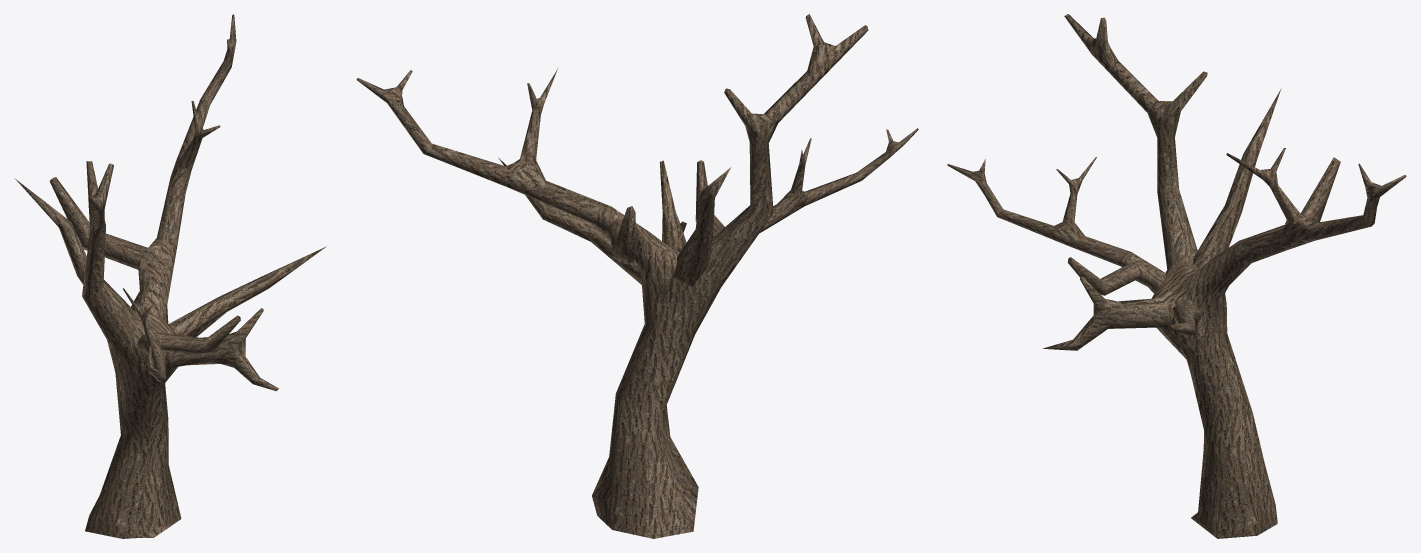
The model's file is tree.obj.
3 renders of one model, left to right at view 1: azimuth 30°, elevation 25°; view 2: azimuth 150°, elevation 25°; view 3: azimuth 270°, elevation 25°, orthographic. The views are drawn at different scales.
Visible parts, largest first — view 1: tree_Plane.001; view 2: tree_Plane.001; view 3: tree_Plane.001.
Part boxes in pixels (left/top/right/bottom): tree_Plane.001: left=14, top=14, right=326, bottom=538; tree_Plane.001: left=356, top=14, right=918, bottom=538; tree_Plane.001: left=947, top=14, right=1406, bottom=538.
Size of the model in its own units: 6.14 by 8.28 by 7.55.
1 material, 1 textured.
